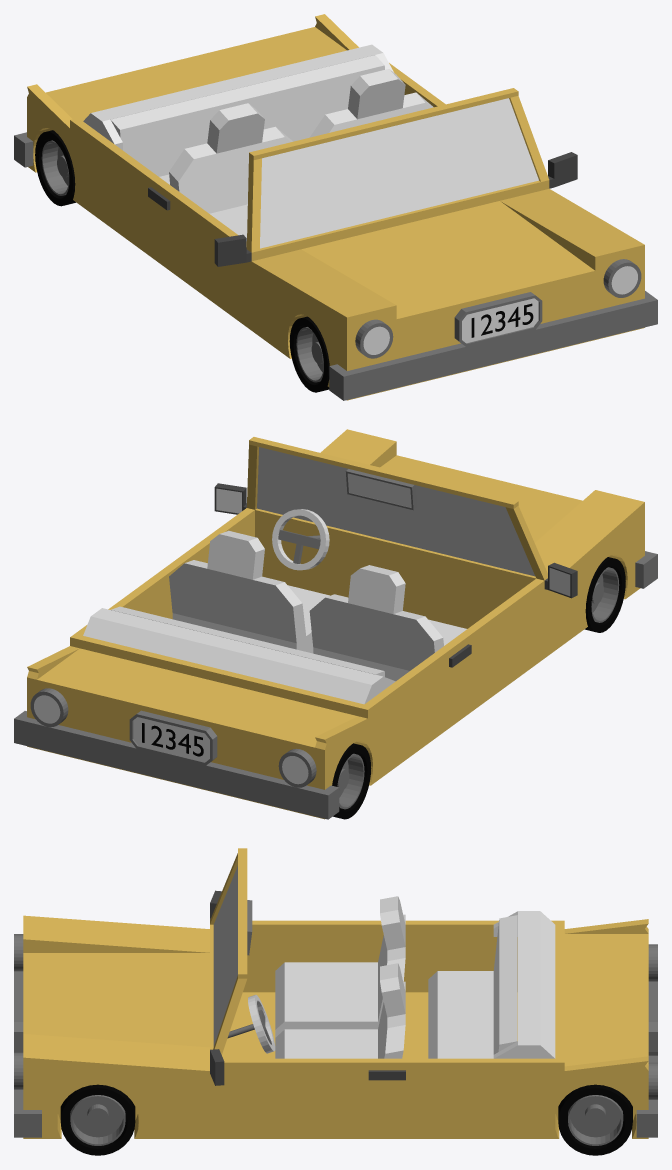
File: fbxSample2.fbx
The picture shows the model from 3 angles, top to bottom: view 1: azimuth 30°, elevation 25°; view 2: azimuth 150°, elevation 25°; view 3: azimuth 270°, elevation 25°; orthographic projection. The views are drawn at different scales.
Visible parts, largest first — view 1: opencar, Text; view 2: opencar; view 3: opencar.
Boxes of the visible parts, x1,y1,x2,y2 form: opencar: (14, 14, 657, 400); Text: (471, 303, 533, 337); opencar: (14, 429, 657, 819); opencar: (14, 848, 657, 1155).
Bounding box in the file's own units: 217 × 103 × 345.
